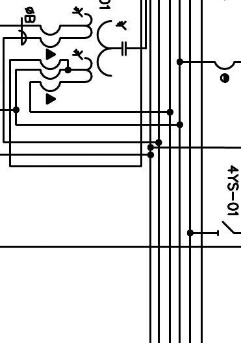115_cvt_3p: (71, 6, 127, 83)
115_ds: (217, 221, 235, 237)
